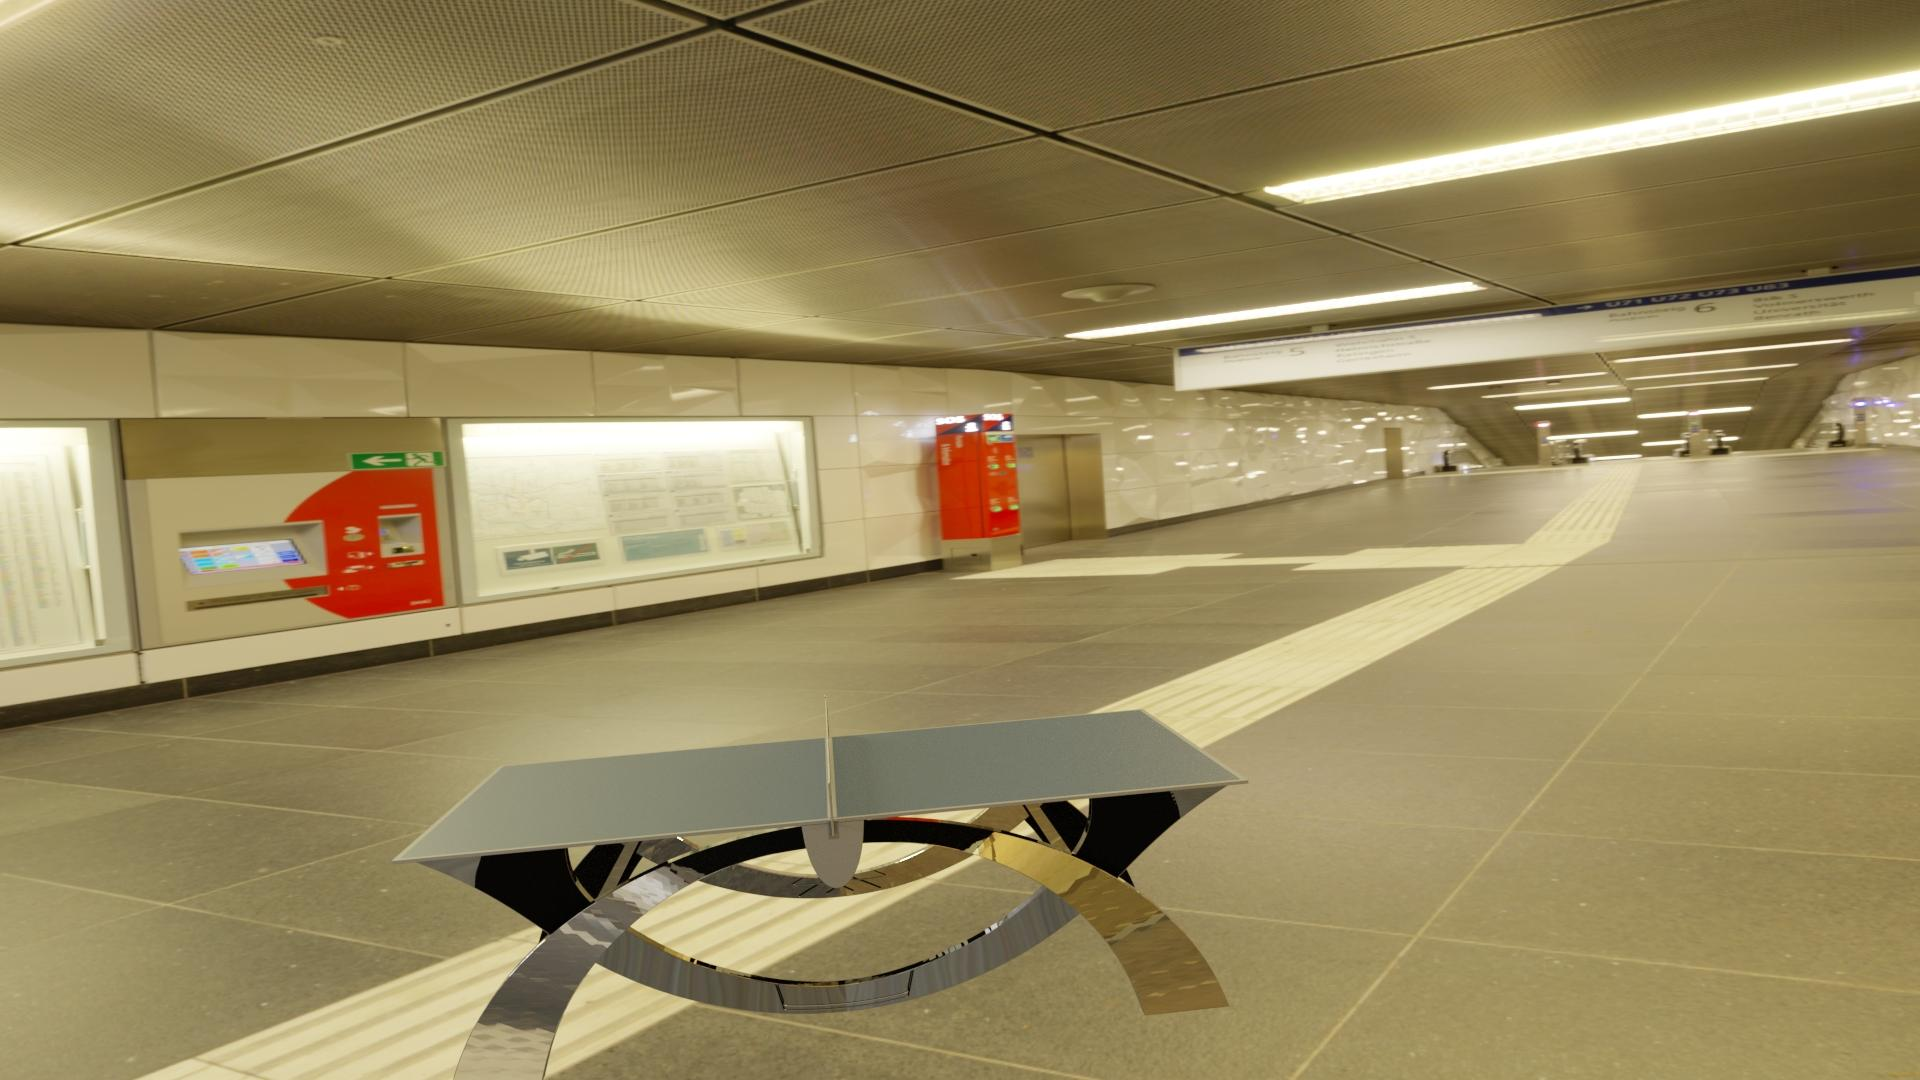table: (400, 709, 1241, 858)
